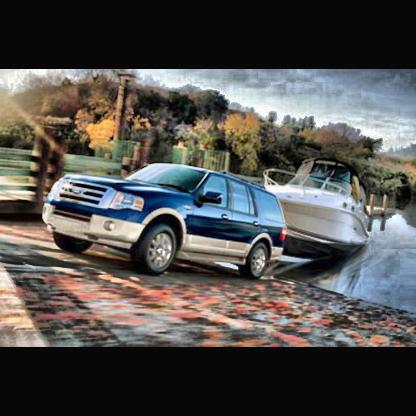Ford Expedition EL SUV 2009: (45, 161, 290, 284)
